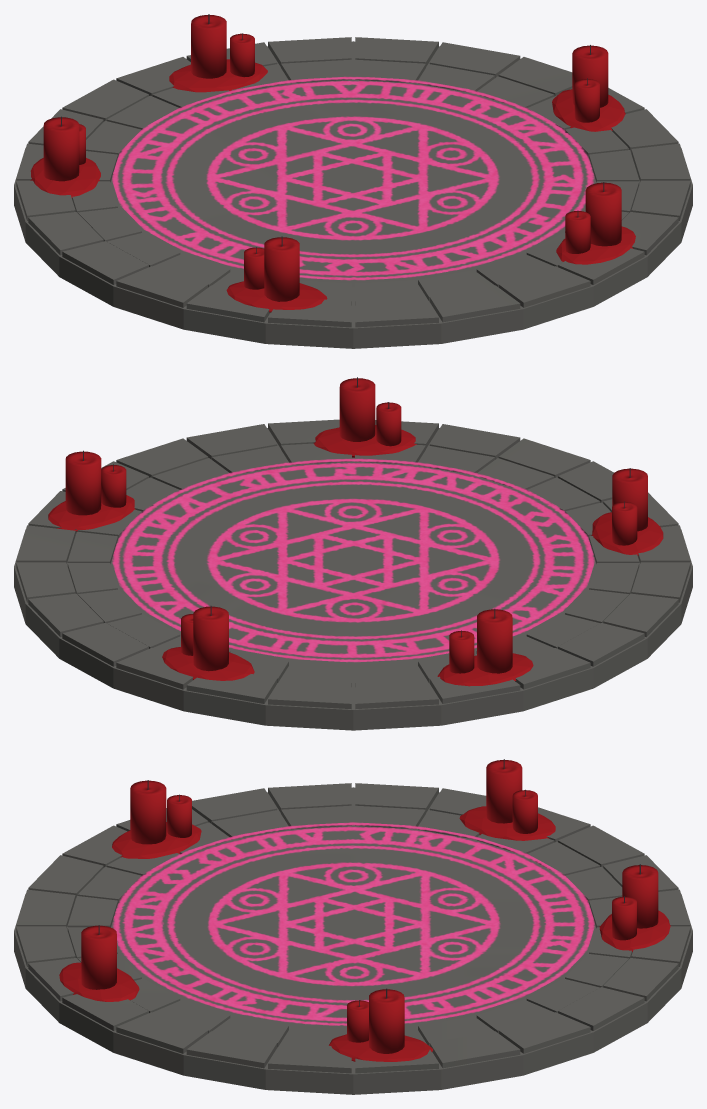
The model's file is RitualCircle.glb.
The picture shows the model from 3 angles, top to bottom: view 1: azimuth 30°, elevation 25°; view 2: azimuth 150°, elevation 25°; view 3: azimuth 270°, elevation 25°; orthographic projection.
Parts seen in each view (by area): view 1: RitualCircle; view 2: RitualCircle; view 3: RitualCircle.
Part boxes in pixels (bbox=[...]): RitualCircle: bbox=[14, 14, 692, 348]; RitualCircle: bbox=[14, 377, 692, 730]; RitualCircle: bbox=[14, 759, 692, 1094].
Bounding box in the file's own units: 4.29 × 0.6019 × 4.29.
Materials: 2 (2 with a texture image).
